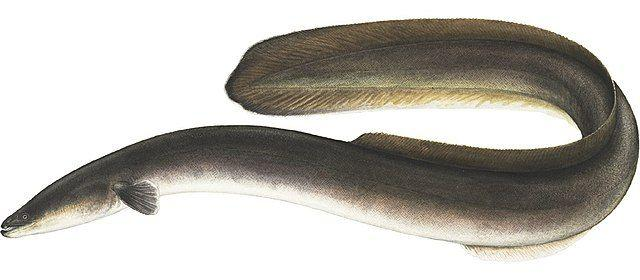Freshwater Eel: (2, 13, 640, 260)
